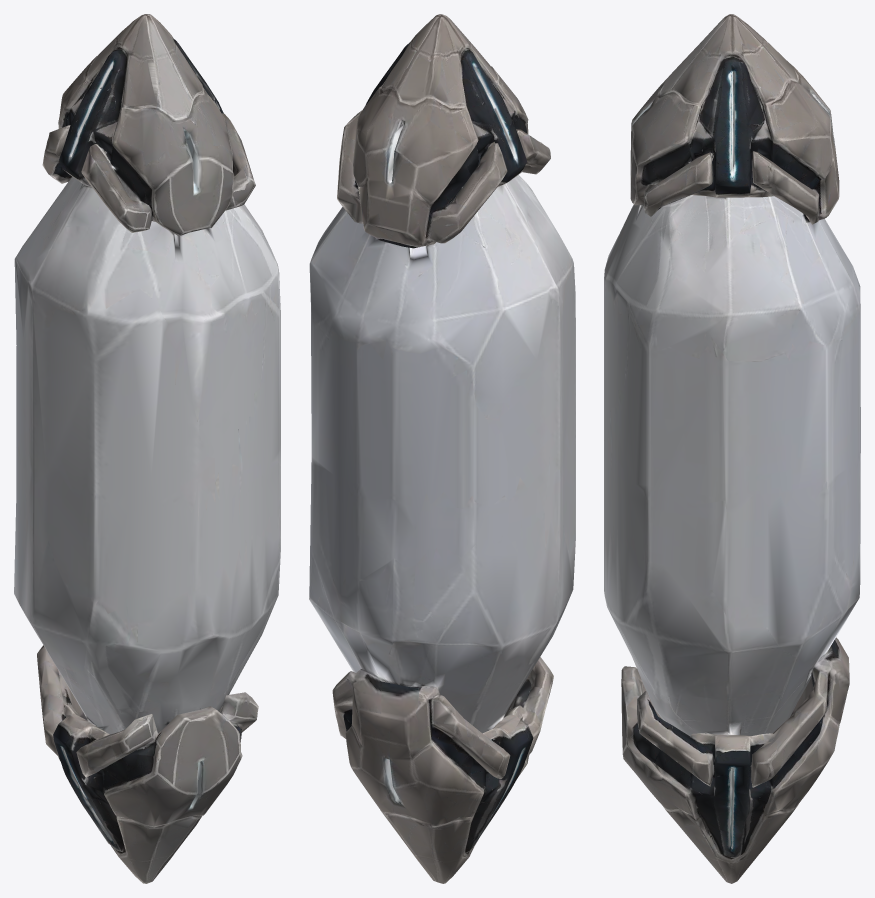
File: value_crystal.glb
3 renders of one model, left to right at view 1: azimuth 30°, elevation 25°; view 2: azimuth 150°, elevation 25°; view 3: azimuth 270°, elevation 25°, orthographic.
Bounding box in the file's own units: 0.5316 × 1.9 × 0.5105.
Materials: 1 (1 with a texture image).
